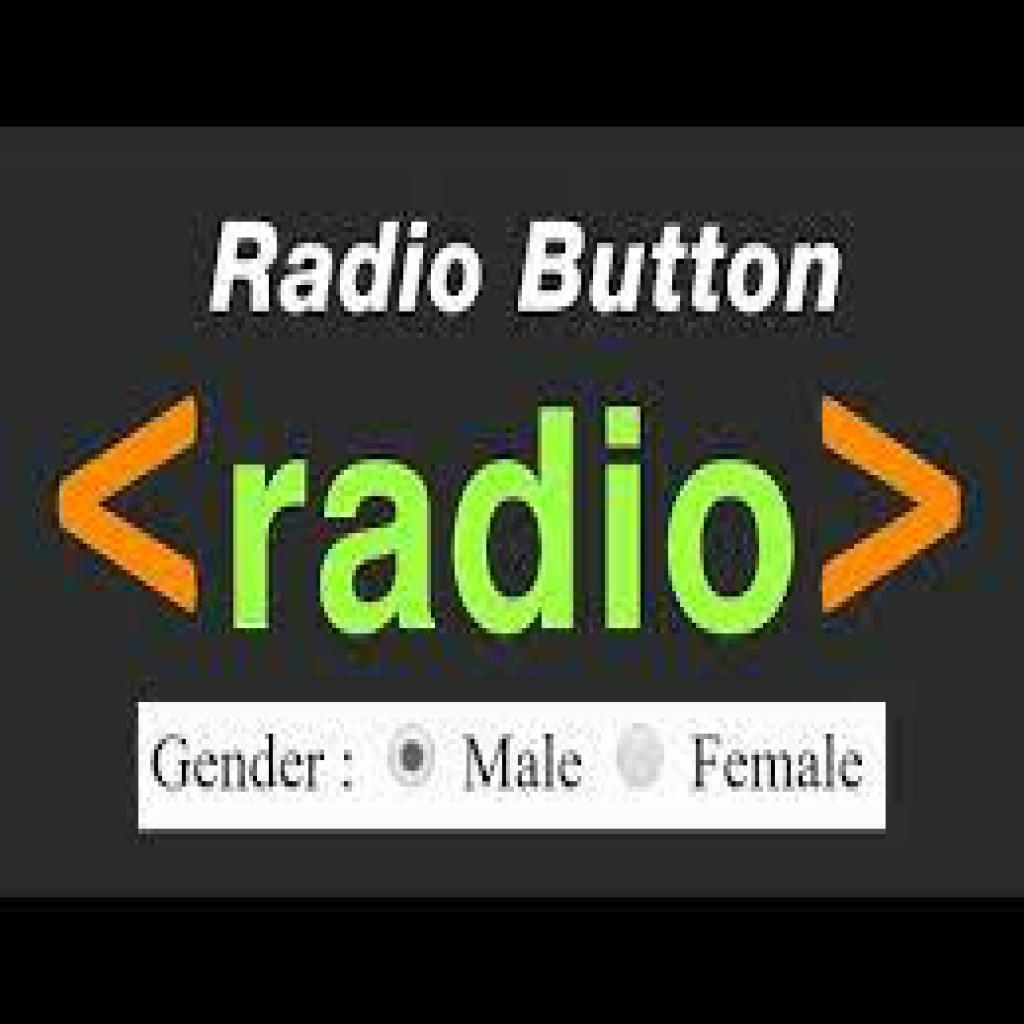radio: (611, 722, 674, 804), (386, 721, 447, 793)
